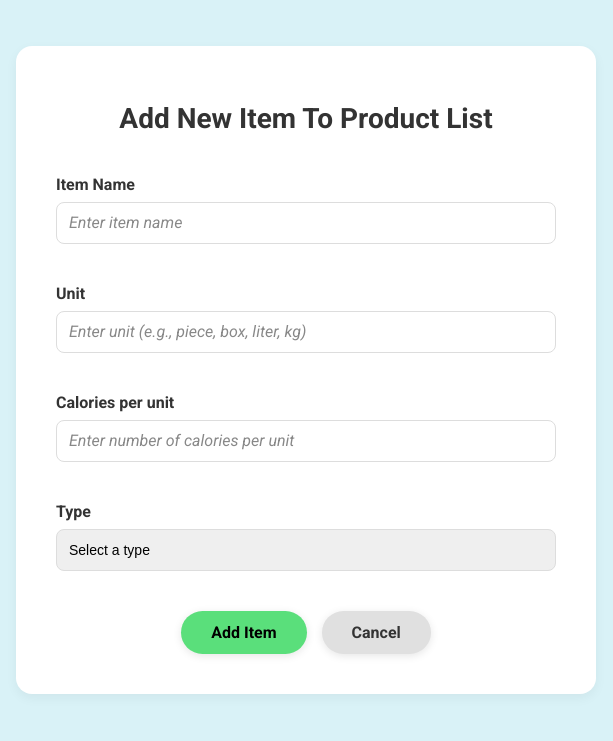
Test case: AddItemView › validates empty type field
Note: Fill other required fields
In the field with id "name": (306, 223) [56,202,556,244], type "Test Item"
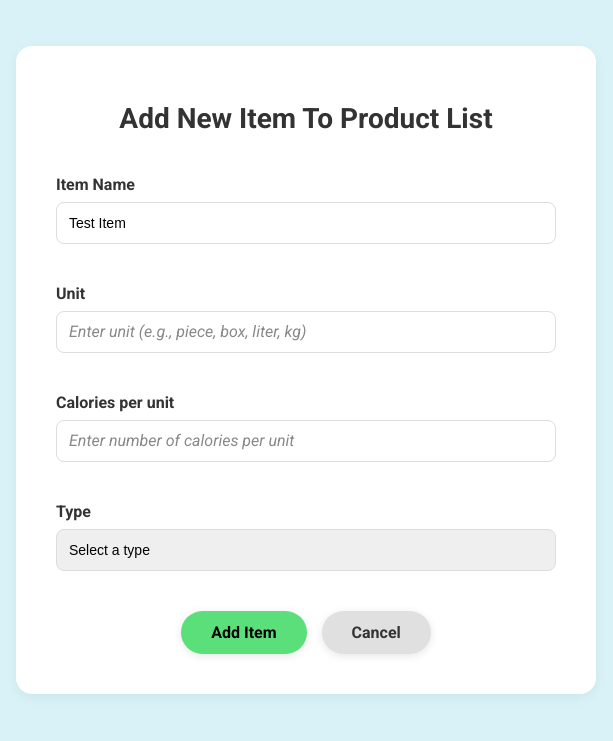
In the field with id "unit": (306, 332) [56,311,556,353], type "piece"
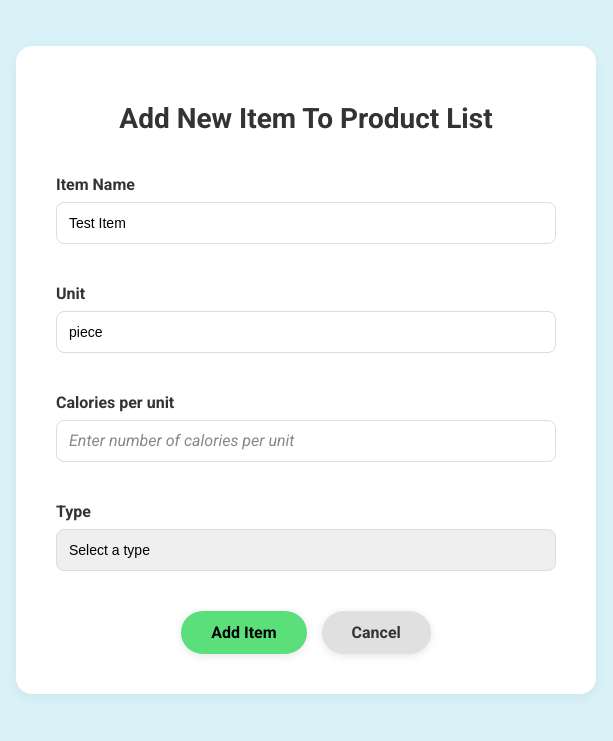
In the number field with id "calories": (306, 441) [56,420,556,462], type "100"
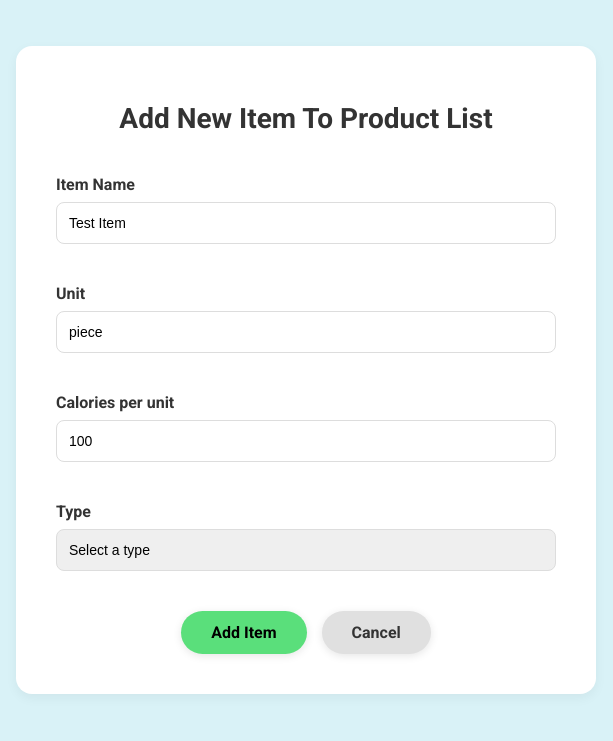
Note: Submit with no type selected
Click the button with class "add-button": (244, 632) [181,611,306,654]
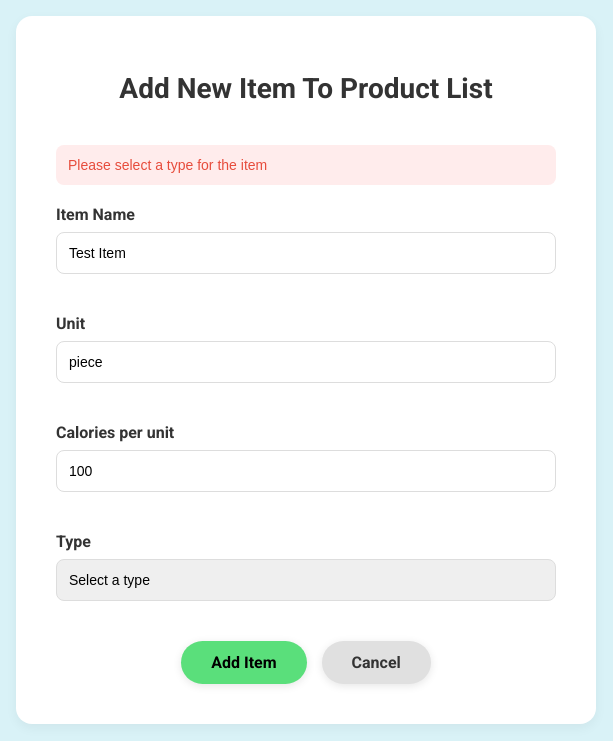
Now the text with class "error-message" reads "Please select a type for the item", box [68,157,267,173]
